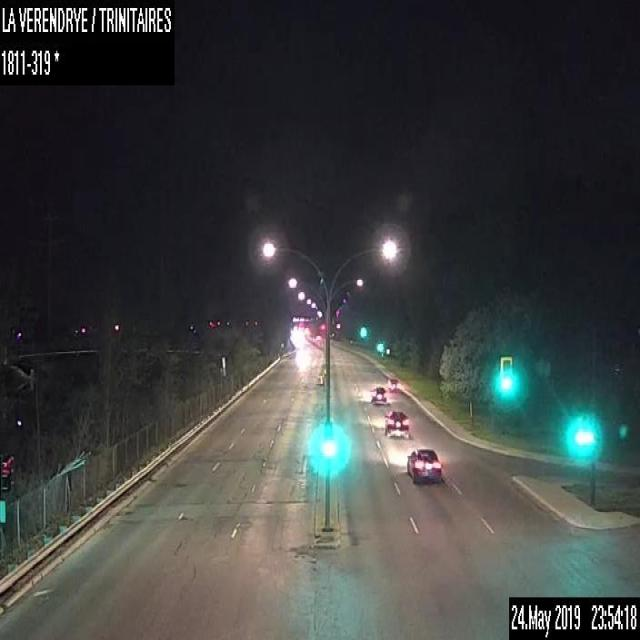vehicle: (404, 445, 441, 484), (383, 408, 409, 437), (370, 384, 386, 404), (386, 376, 399, 392)
